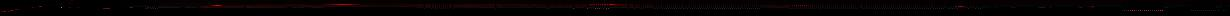Blue cone: (30, 7, 36, 8), (38, 6, 42, 7)
Yellow cone: (1089, 6, 1095, 8)
